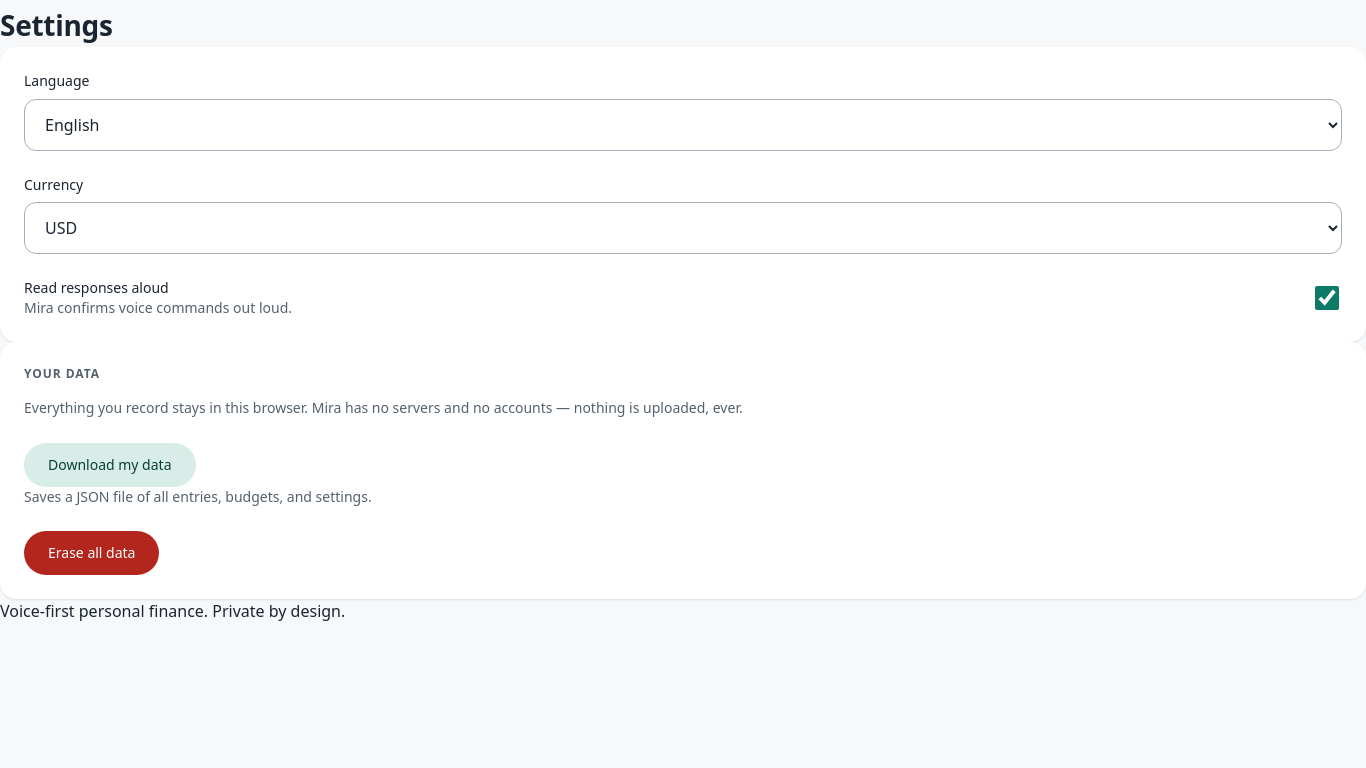
SettingsPage privacy controls › erases all data only after explicit confirmation
Click the button "Erase all data".
click(92, 553)  # box [24,531,160,575]
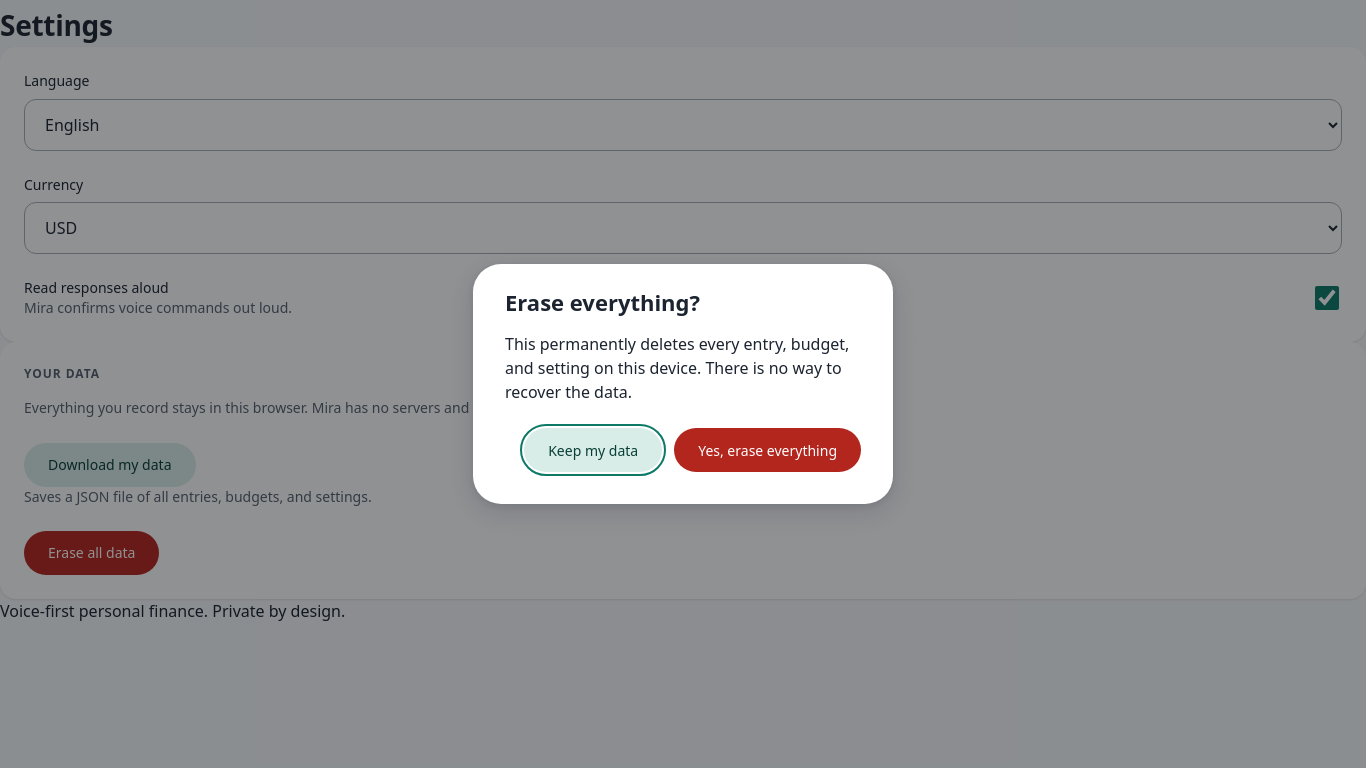
expect the dialog "Erase everything?" is shown: met, box [473,264,893,504]
# Backing out keeps data intact.
Click the button "Keep my data".
click(593, 450)  # box [524,428,662,472]
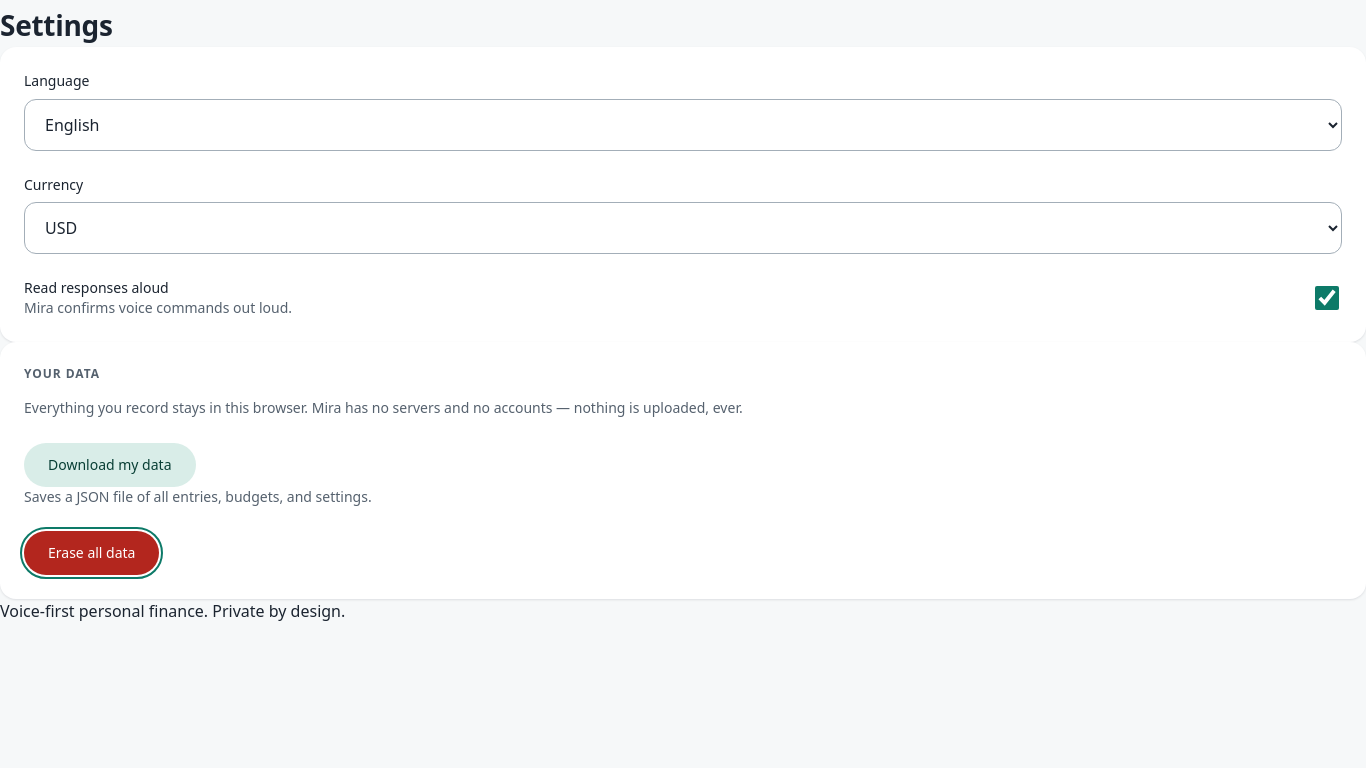
expect the dialog is gone: met
Click the button "Erase all data".
click(92, 553)  # box [24,531,160,575]
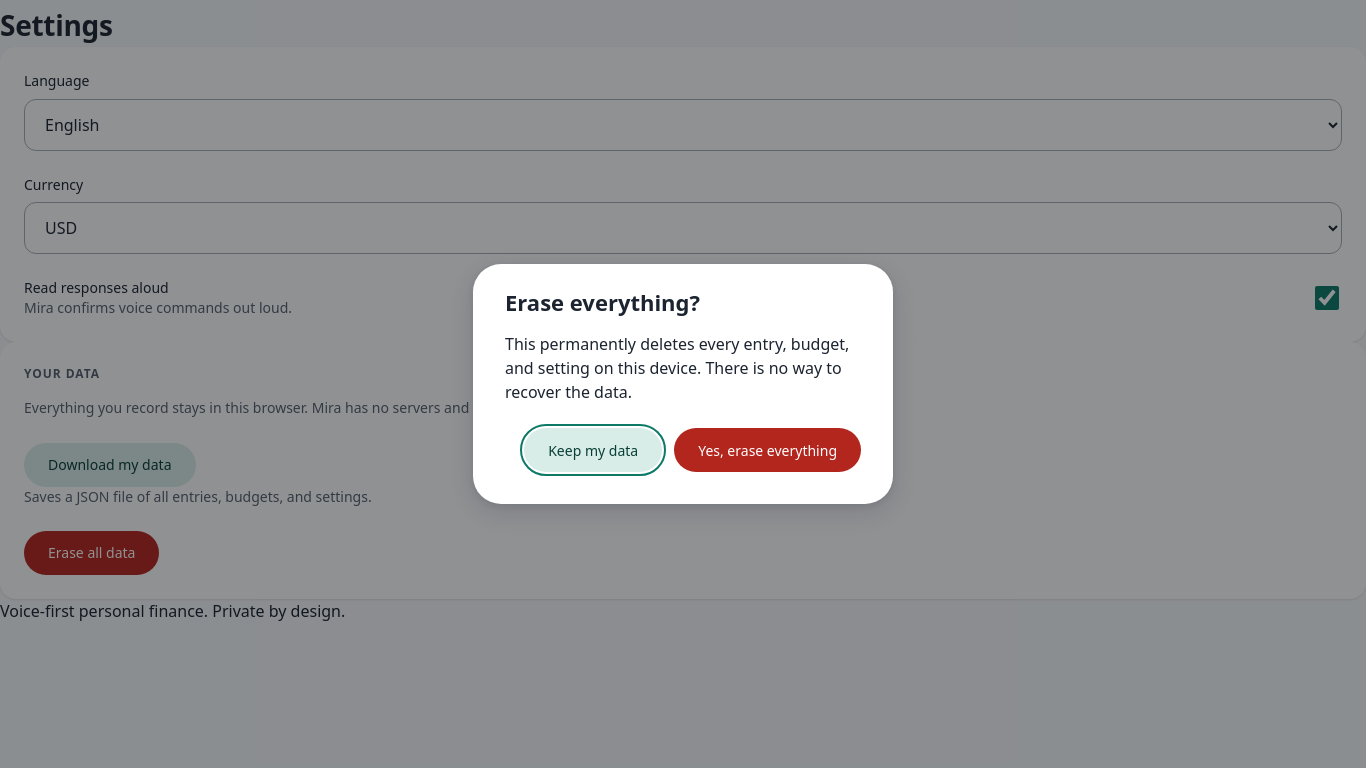
expect the dialog "Erase everything?" is shown: met, box [473,264,893,504]
Click the button "Yes, erase everything".
click(768, 450)  # box [674,428,861,472]
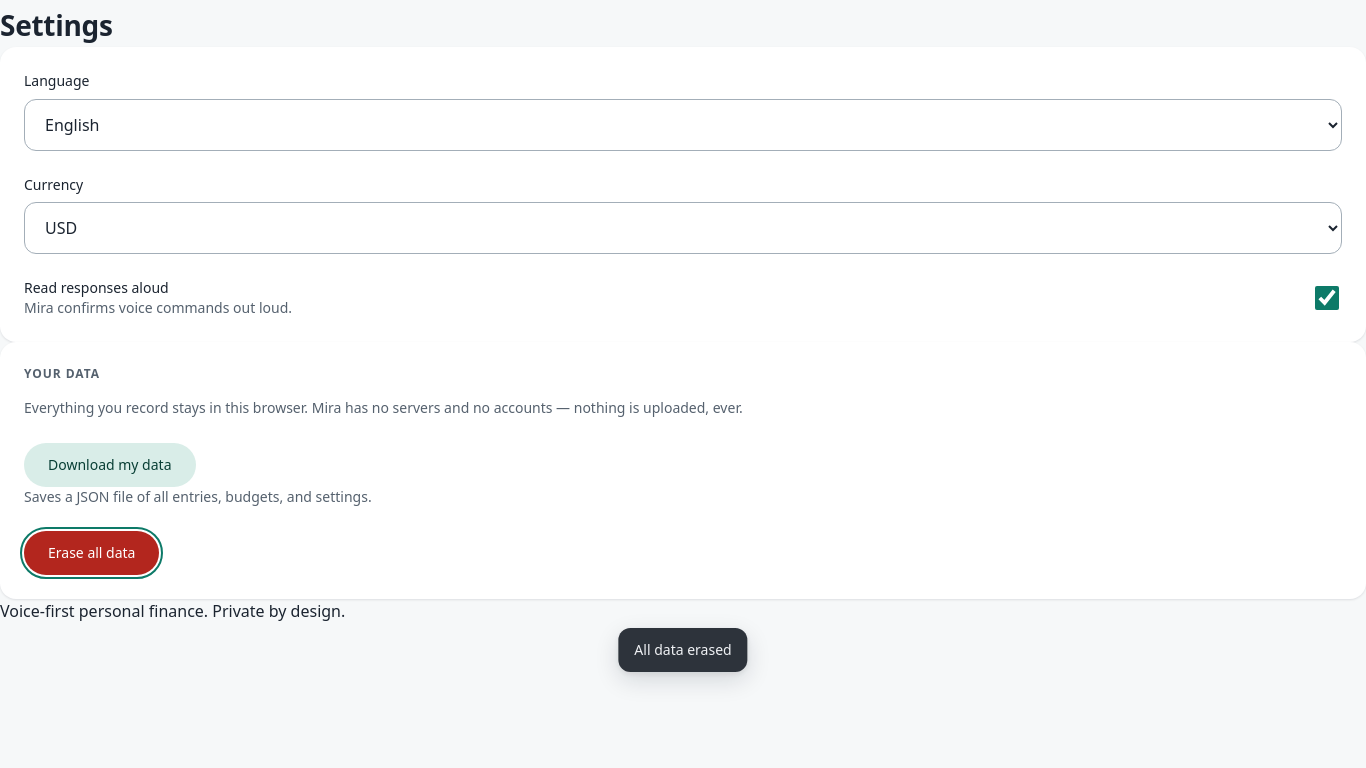
expect the message reads "All data erased": met, box [634,640,732,659]
